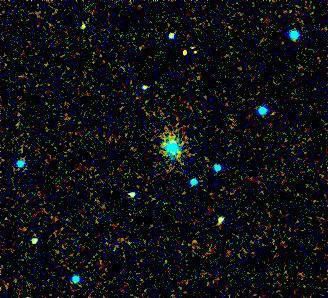star: (67, 10, 97, 40)
